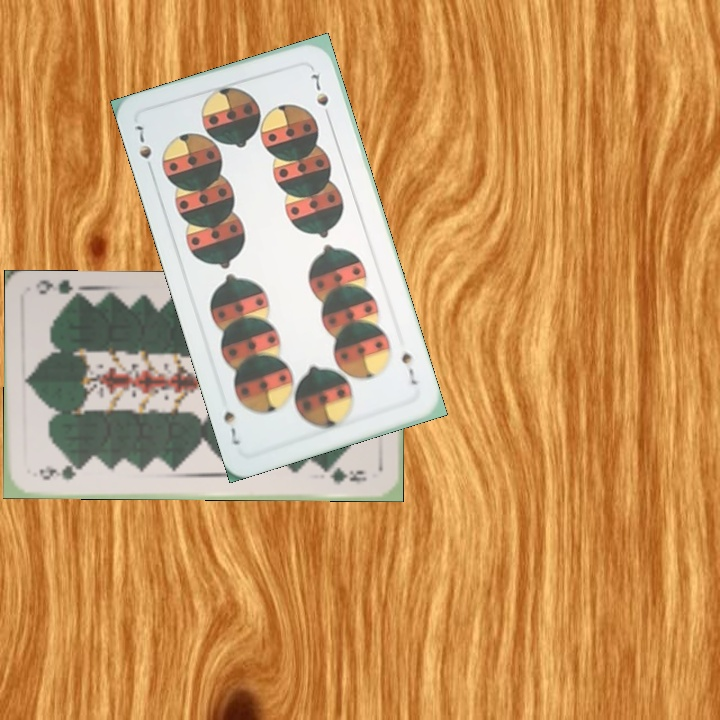G9: (36, 463, 85, 482)
S7: (130, 121, 156, 176), (397, 348, 420, 388)
